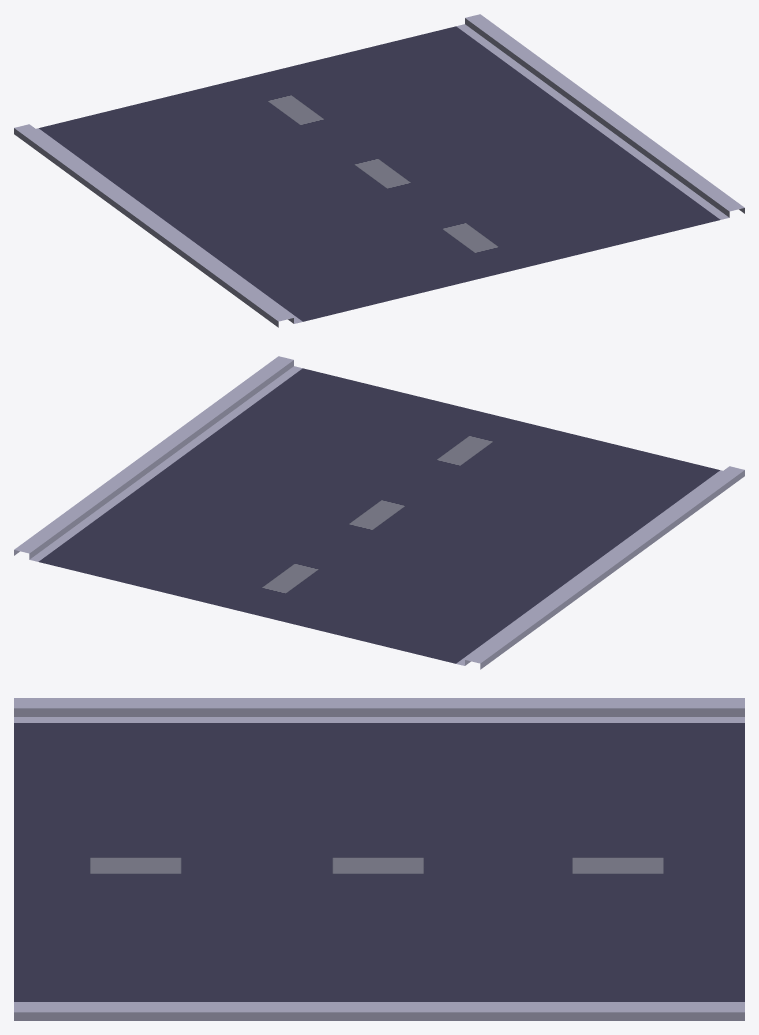
The model's file is block_2.fbx.
The picture shows the model from 3 angles, top to bottom: view 1: azimuth 30°, elevation 25°; view 2: azimuth 150°, elevation 25°; view 3: azimuth 270°, elevation 25°; orthographic projection. The views are drawn at different scales.
Visible parts, largest first — view 1: Block_2; view 2: Block_2; view 3: Block_2.
Boxes of the visible parts, x1,y1,x2,y2 form: Block_2: (14, 14, 744, 327); Block_2: (14, 356, 744, 669); Block_2: (14, 698, 744, 1020).
Size of the model in its own units: 9.95 by 0.1269 by 9.77.
